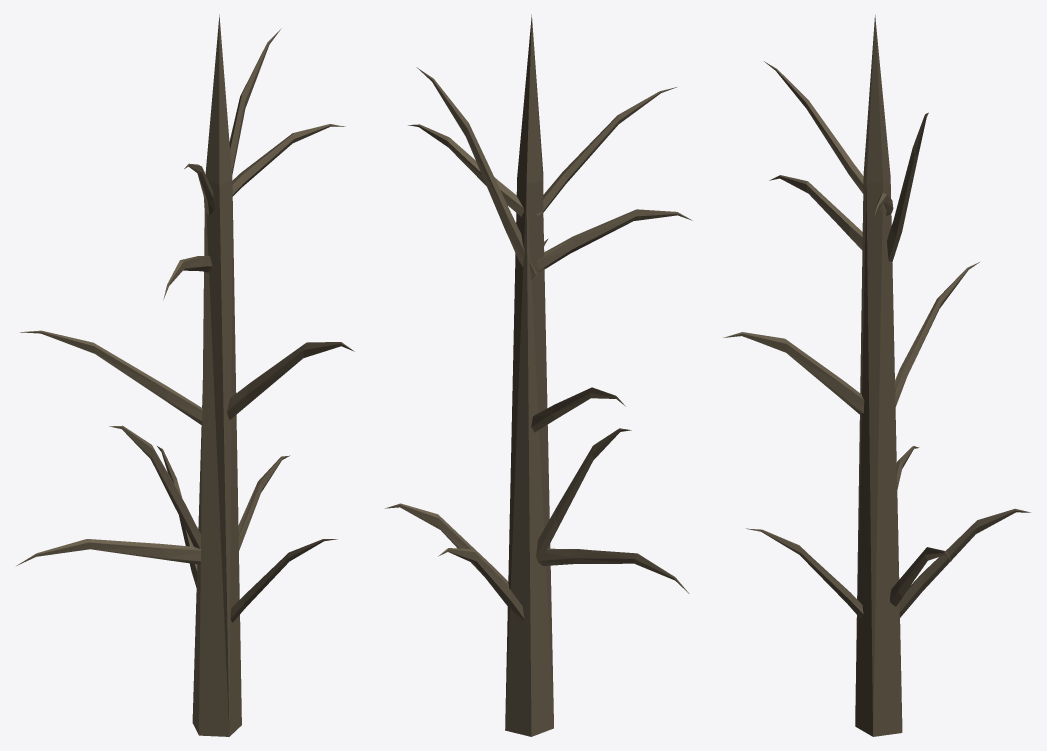
The model's file is Blue_Spruce_6_4.fbx.
3 renders of one model, left to right at view 1: azimuth 30°, elevation 25°; view 2: azimuth 150°, elevation 25°; view 3: azimuth 270°, elevation 25°, orthographic.
Parts seen in each view (by area): view 1: Spurce_6_4; view 2: Spurce_6_4; view 3: Spurce_6_4.
Boxes of the visible parts, bbox=[...] form: Spurce_6_4: bbox=[16, 14, 354, 736]; Spurce_6_4: bbox=[385, 14, 692, 736]; Spurce_6_4: bbox=[723, 15, 1030, 736].
Size of the model in its own units: 273 by 604 by 238.
